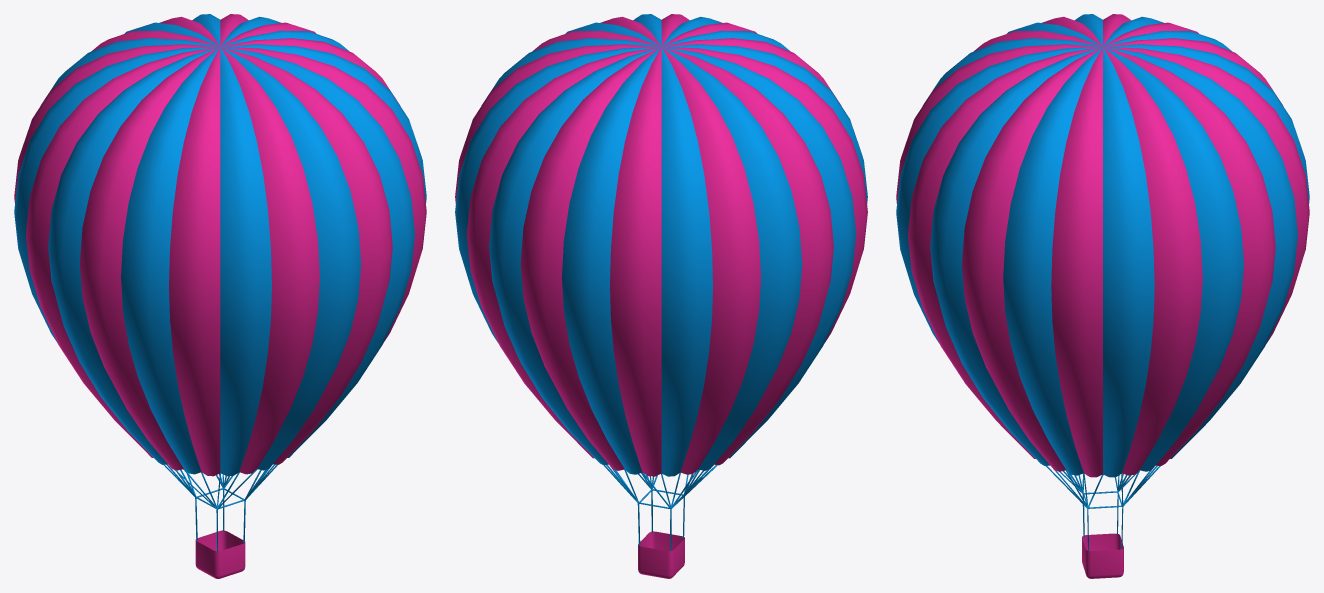
File: balloonCenter.glb
3 renders of one model, left to right at view 1: azimuth 30°, elevation 25°; view 2: azimuth 150°, elevation 25°; view 3: azimuth 270°, elevation 25°, orthographic.
Visible parts, largest first — view 1: balloonCenter, balloonLeft_basket.001, balloonLeft_net.001; view 2: balloonCenter, balloonLeft_basket.001, balloonLeft_net.001; view 3: balloonCenter, balloonLeft_basket.001, balloonLeft_net.001.
Boxes of the visible parts, x1,y1,x2,y2 form: balloonCenter: (14,14,426,476); balloonLeft_basket.001: (195,530,245,578); balloonLeft_net.001: (164,464,277,551); balloonCenter: (455,14,867,476); balloonLeft_basket.001: (638,531,684,578); balloonLeft_net.001: (604,465,717,551); balloonCenter: (896,14,1309,477); balloonLeft_basket.001: (1082,533,1123,578); balloonLeft_net.001: (1046,465,1160,550).
Size of the model in its own units: 3.79 by 5.3 by 3.79.
